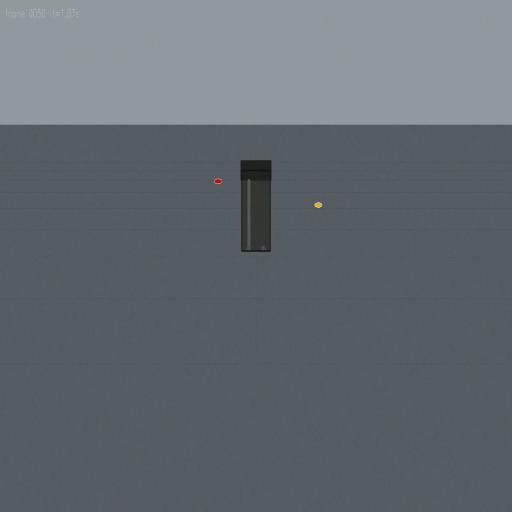bin: (240, 158, 272, 254)
